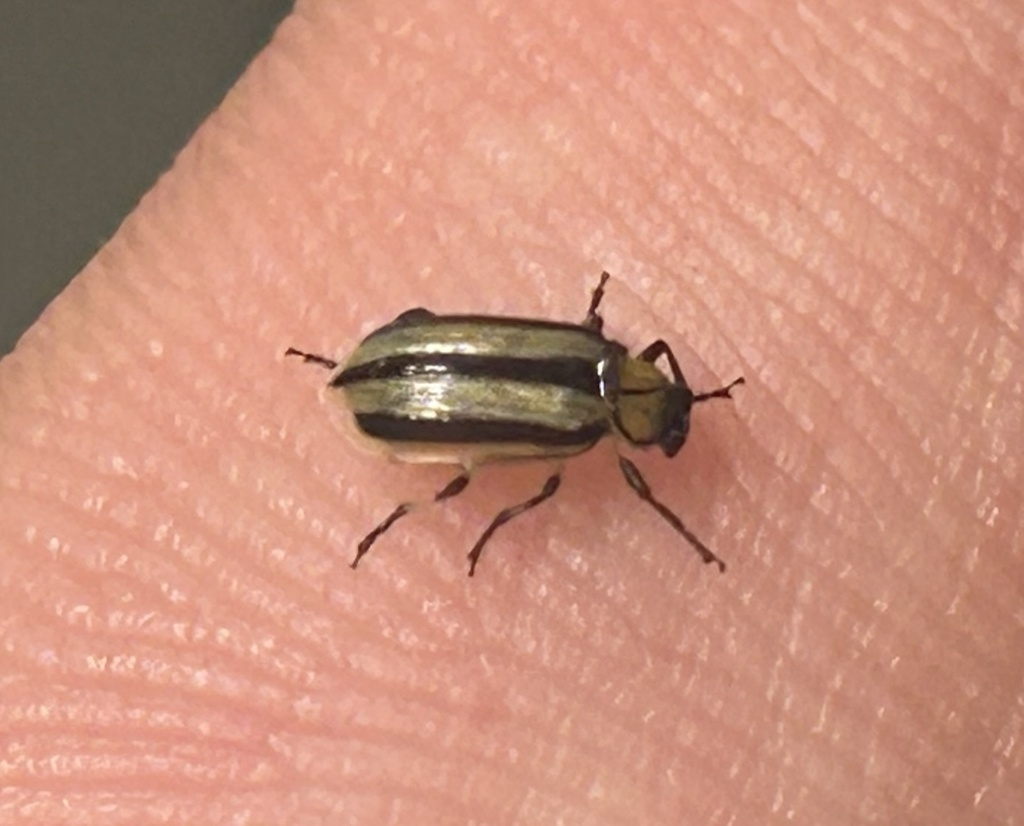potato_beetle: (200, 177, 848, 681)
